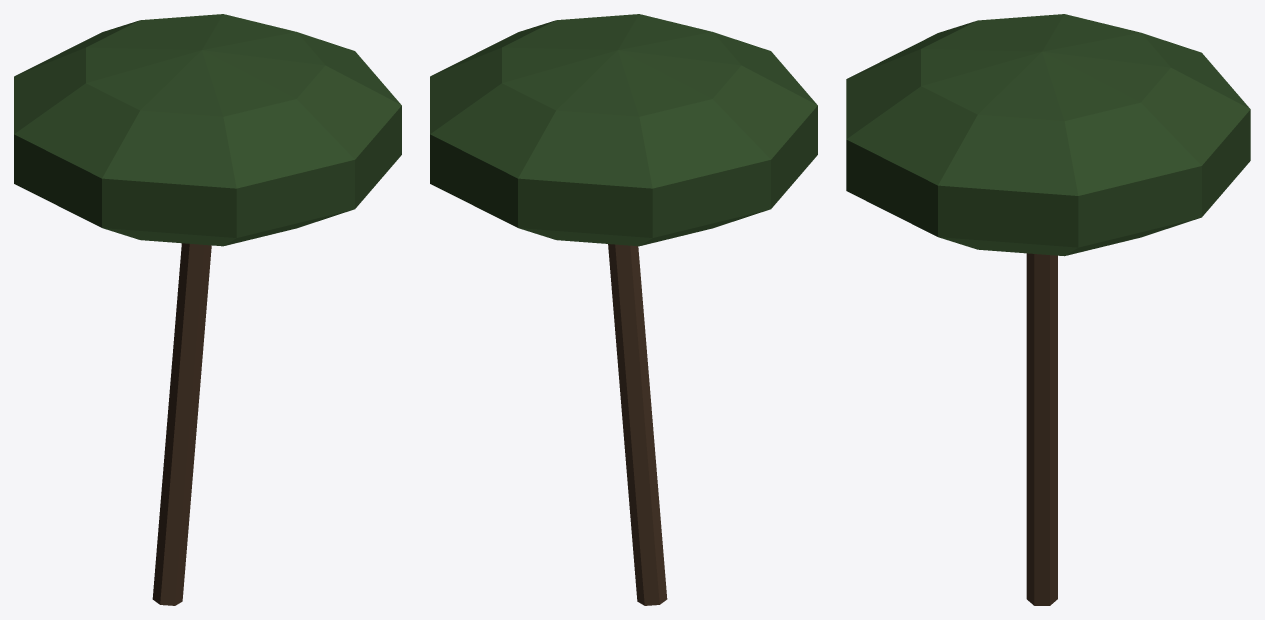
File: pinheiro.glb
3 views of the same model, side by side, from view 1: azimuth 30°, elevation 25°; view 2: azimuth 150°, elevation 25°; view 3: azimuth 270°, elevation 25° (orthographic). The views are drawn at different scales.
Visible parts, largest first — view 1: Arvore.003; view 2: Arvore.003; view 3: Arvore.003.
Part boxes in pixels (box(x1,y1,x2,y2)): Arvore.003: box(14, 14, 401, 605); Arvore.003: box(430, 14, 817, 605); Arvore.003: box(846, 14, 1250, 605).
Size of the model in its own units: 7.87 by 11.97 by 7.75.
